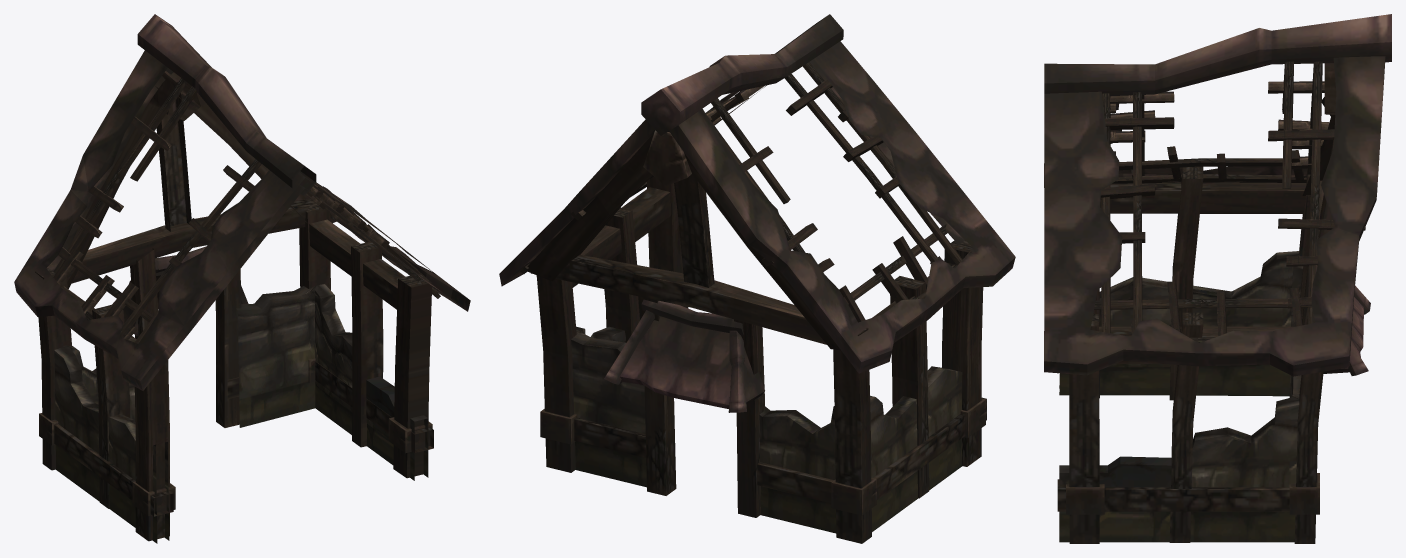
The model's file is mod_building_damaged_01_d.fbx.
3 views of the same model, side by side, from view 1: azimuth 30°, elevation 25°; view 2: azimuth 150°, elevation 25°; view 3: azimuth 270°, elevation 25° (orthographic). The views are drawn at different scales.
Visible parts, largest first — view 1: obj1.096; view 2: obj1.096; view 3: obj1.096.
Boxes of the visible parts, x1,y1,x2,y2 form: obj1.096: [14, 14, 470, 543]; obj1.096: [499, 14, 1015, 543]; obj1.096: [1044, 14, 1391, 543].
Bounding box in the file's own units: 8.09 × 9.1 × 6.31.
